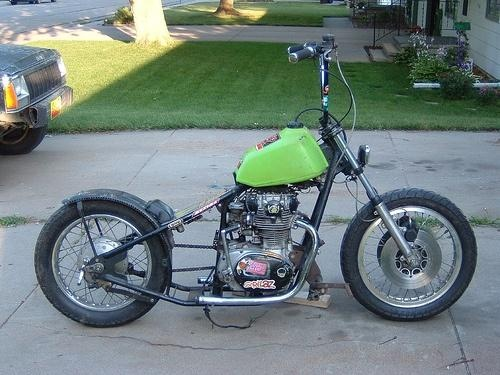car: (1, 44, 74, 156)
motorbike: (35, 36, 479, 328)
